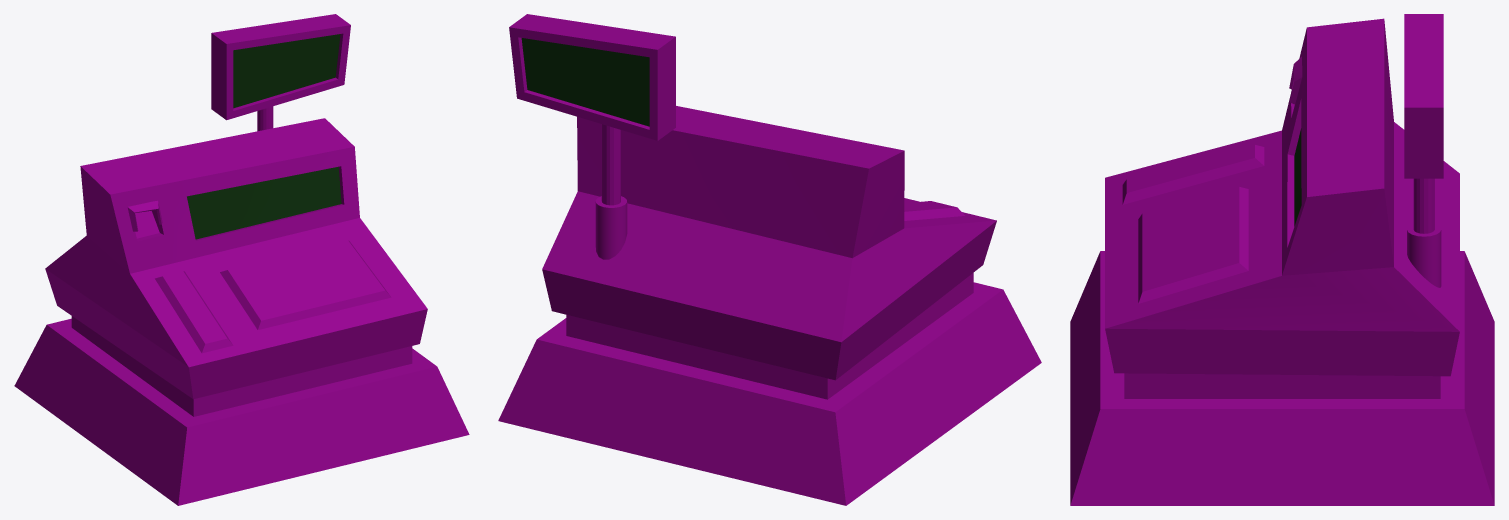
File: Register.FBX
The picture shows the model from 3 angles, left to right: view 1: azimuth 30°, elevation 25°; view 2: azimuth 150°, elevation 25°; view 3: azimuth 270°, elevation 25°; orthographic projection. The views are drawn at different scales.
Visible parts, largest first — view 1: PRP_Register_1; view 2: PRP_Register_1; view 3: PRP_Register_1.
Part boxes in pixels (x1=…): PRP_Register_1: x1=14, y1=14, x2=469, y2=505; PRP_Register_1: x1=498, y1=14, x2=1041, y2=505; PRP_Register_1: x1=1070, y1=14, x2=1494, y2=505.
Bounding box in the file's own units: 51.29 × 52.63 × 48.2.
